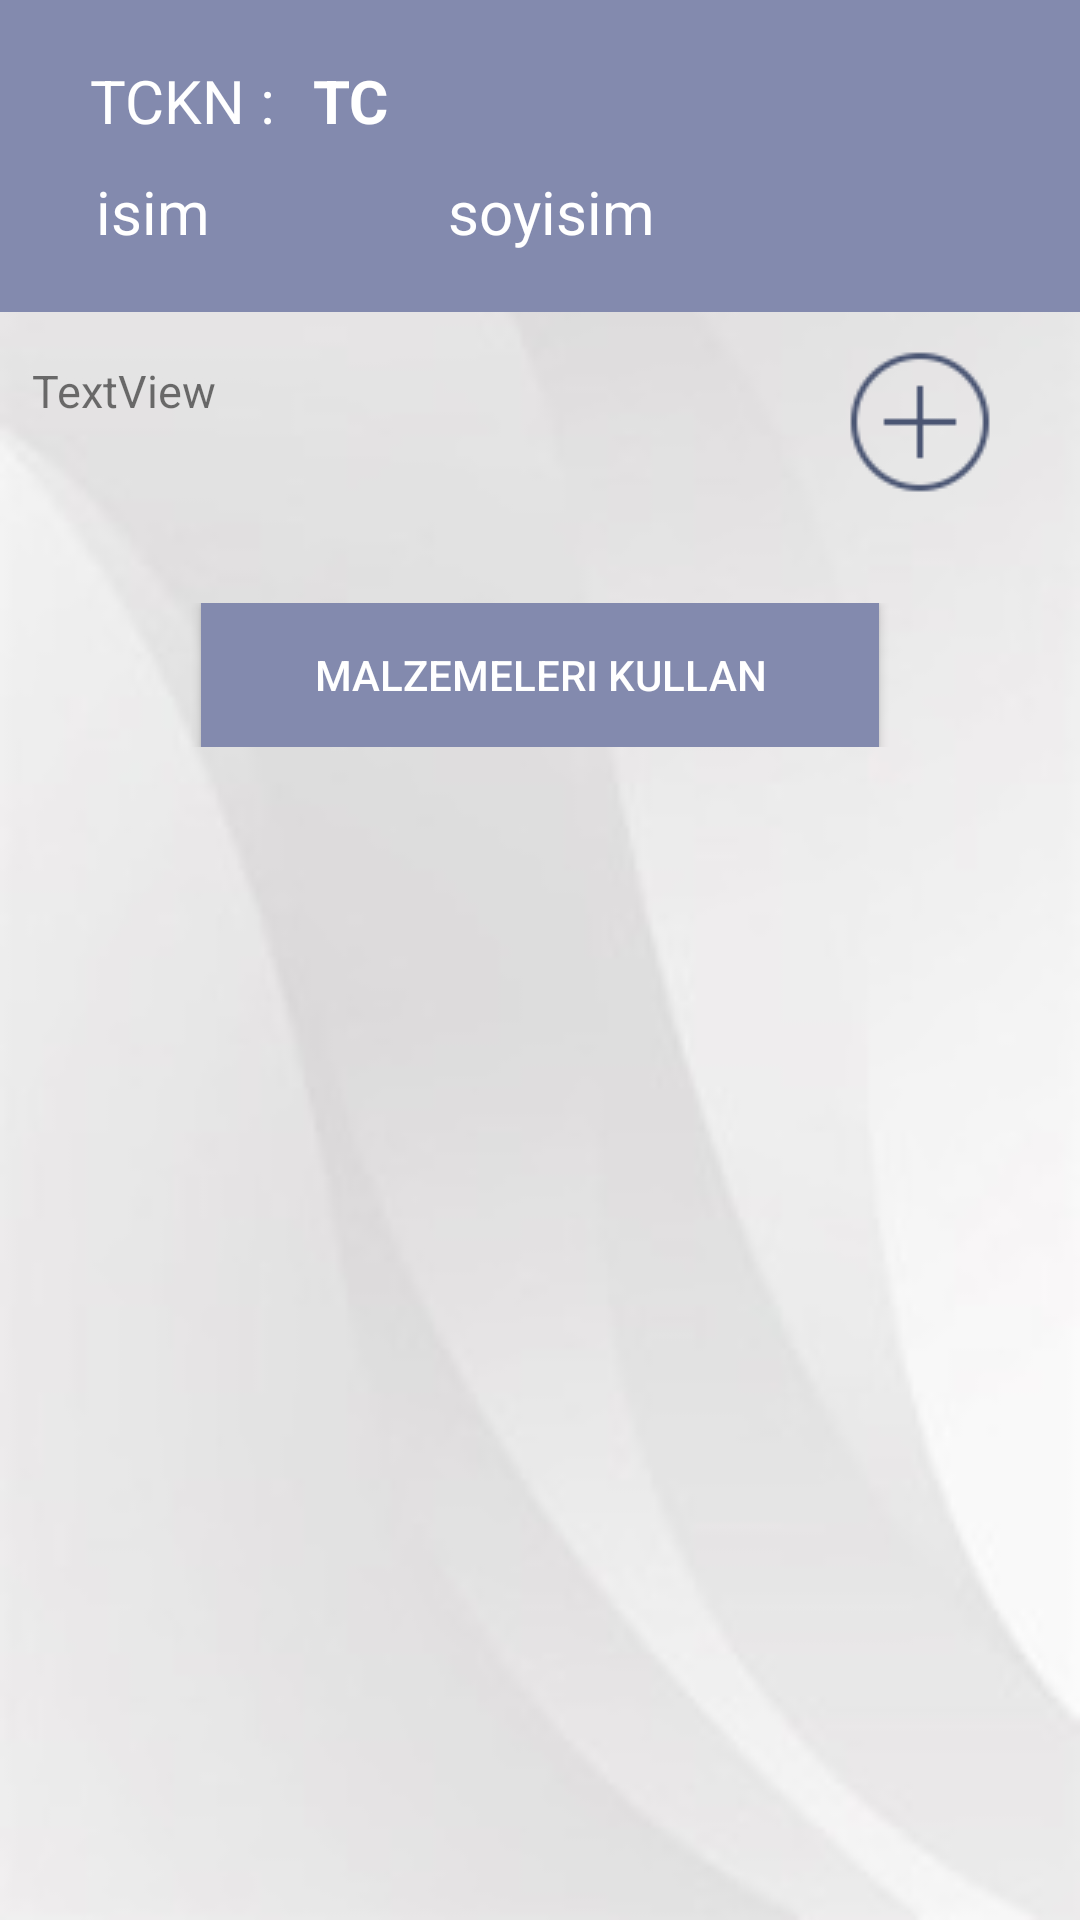

Screen size 1080 × 1920. Icon name, then its box in pixels as (x1=x1, y1=y1, x2=x2, y2=y2):
plus: (x1=850, y1=352, x2=990, y2=492)
